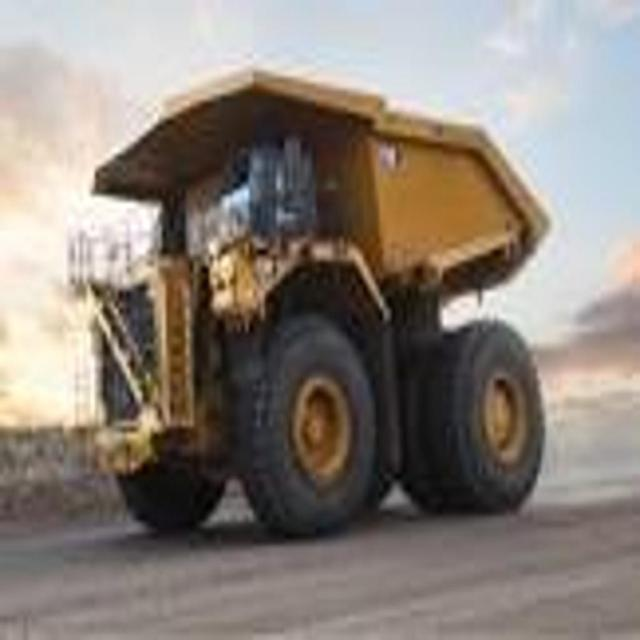dump_truck: (69, 64, 556, 536)
